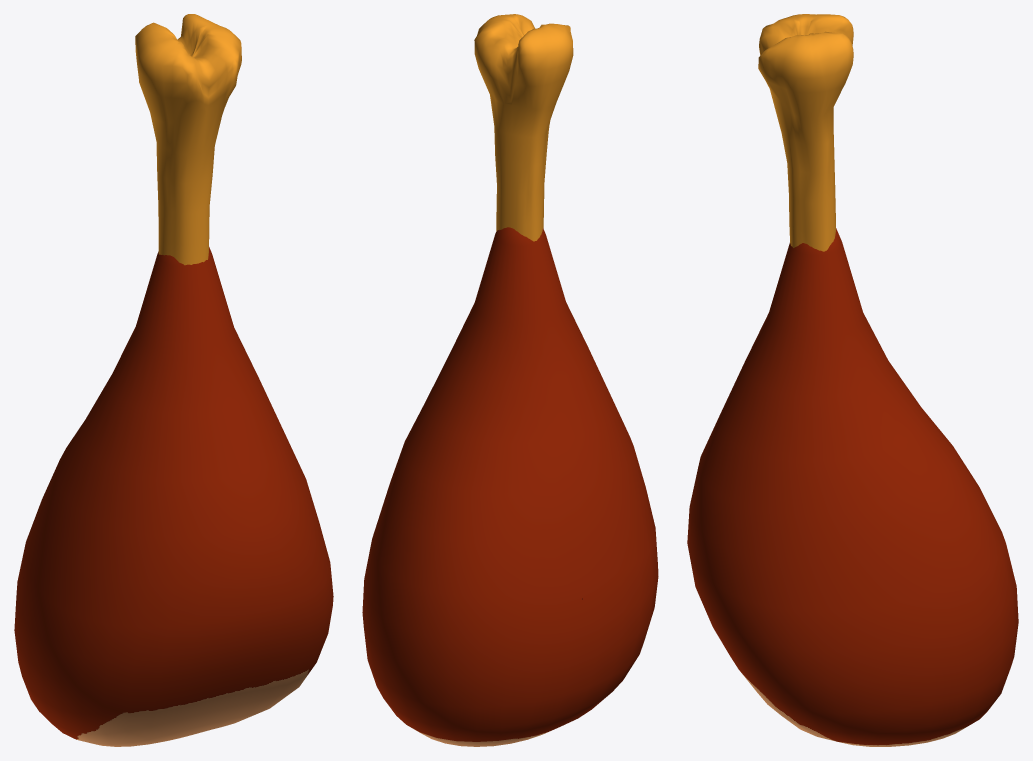
Rendered from cookedChicken.obj.
The picture shows the model from 3 angles, left to right: view 1: azimuth 30°, elevation 25°; view 2: azimuth 150°, elevation 25°; view 3: azimuth 270°, elevation 25°; orthographic projection. The views are drawn at different scales.
Visible parts, largest first — view 1: Sphere001, Cylinder001; view 2: Sphere001, Cylinder001; view 3: Sphere001, Cylinder001.
Boxes of the visible parts, <box> form: Sphere001: <box>14,247,333,746</box>; Cylinder001: <box>135,14,241,265</box>; Sphere001: <box>362,227,658,746</box>; Cylinder001: <box>474,14,573,241</box>; Sphere001: <box>687,228,1018,746</box>; Cylinder001: <box>758,14,853,251</box>.
Bounding box in the file's own units: 5.65 × 14.62 × 6.23.
